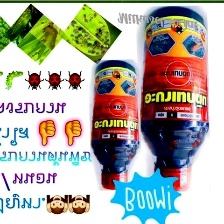insecticide: (138, 3, 212, 196), (89, 58, 142, 192)
